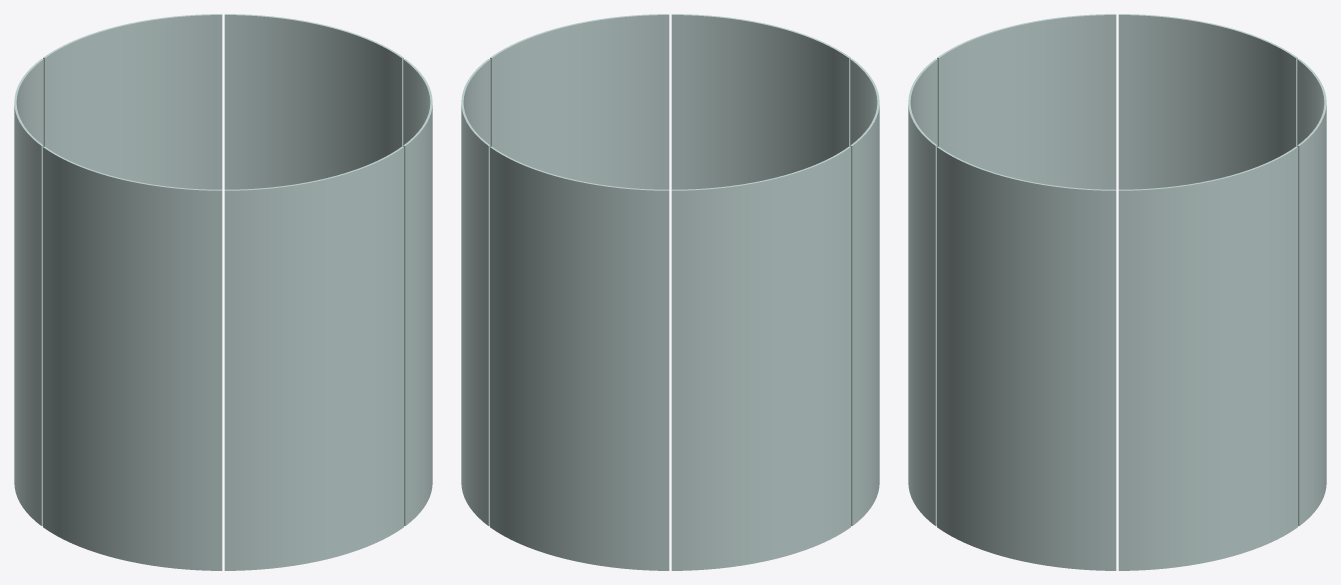
File: CORE_Glass.fbx
3 renders of one model, left to right at view 1: azimuth 30°, elevation 25°; view 2: azimuth 150°, elevation 25°; view 3: azimuth 270°, elevation 25°, orthographic.
Visible parts, largest first — view 1: CORE_Glass_EXPORT; view 2: CORE_Glass_EXPORT; view 3: CORE_Glass_EXPORT.
Part boxes in pixels (x1,y1,x2,y2): CORE_Glass_EXPORT: (14,14,432,570); CORE_Glass_EXPORT: (461,14,879,570); CORE_Glass_EXPORT: (908,14,1326,570).
Size of the model in its own units: 1.44 by 1.45 by 1.44.
